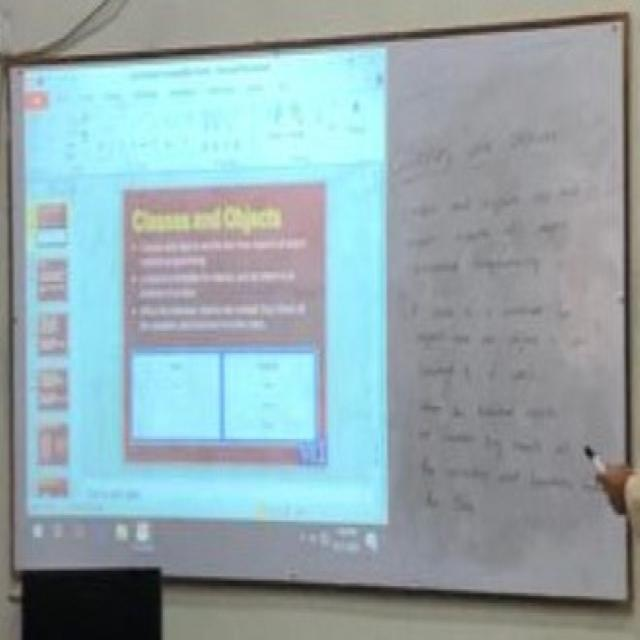Slide: (23, 41, 392, 559)
White-board: (7, 22, 632, 606)
